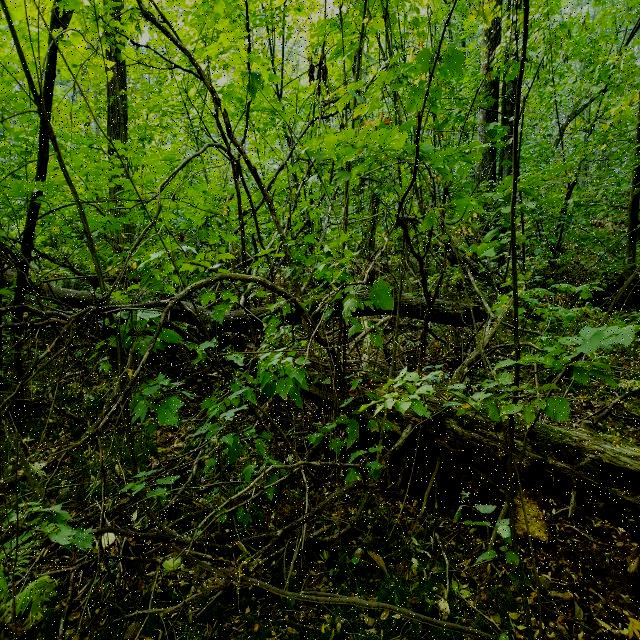fallen_object: (228, 314, 640, 564), (0, 225, 544, 392)
